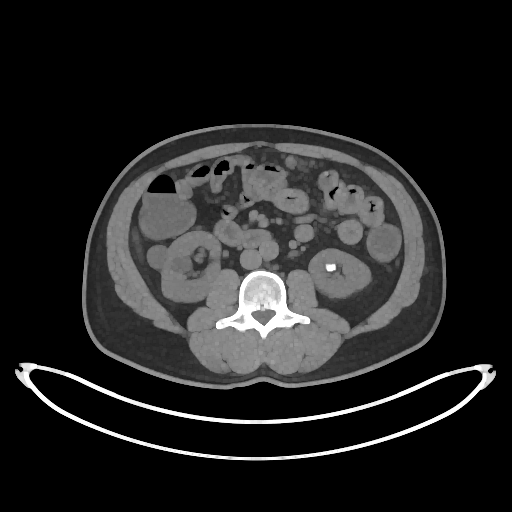Lesion: (321, 261, 341, 274)
